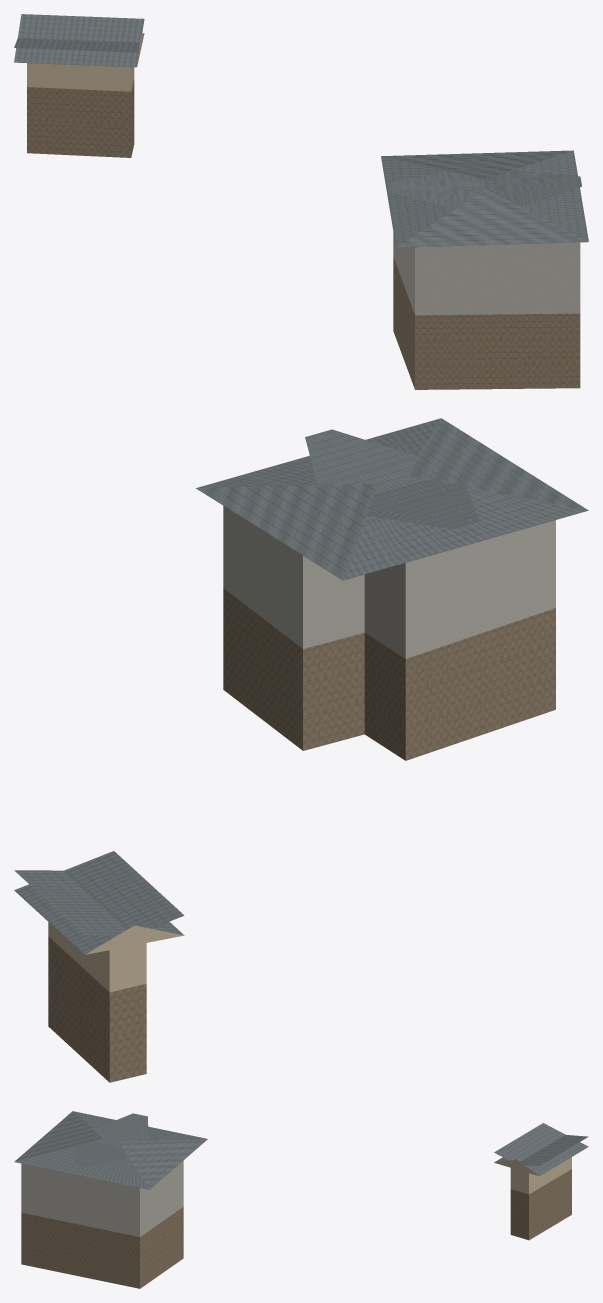
The model's file is bld_c3_16_459.gltf.
The picture shows the model from 3 angles, top to bottom: view 1: azimuth 30°, elevation 25°; view 2: azimuth 150°, elevation 25°; view 3: azimuth 270°, elevation 25°; orthographic projection. The views are drawn at different scales.
Parts seen in each view (by area): view 1: bld_c3_16_459; view 2: bld_c3_16_459; view 3: bld_c3_16_459.
Boxes of the visible parts, bbox=[...] form: bld_c3_16_459: bbox=[14, 14, 588, 389]; bld_c3_16_459: bbox=[14, 418, 588, 1082]; bld_c3_16_459: bbox=[14, 1111, 588, 1288].
Bounding box in the file's own units: 19.72 × 11.5 × 51.34.
Materials: 5 (5 with a texture image).
